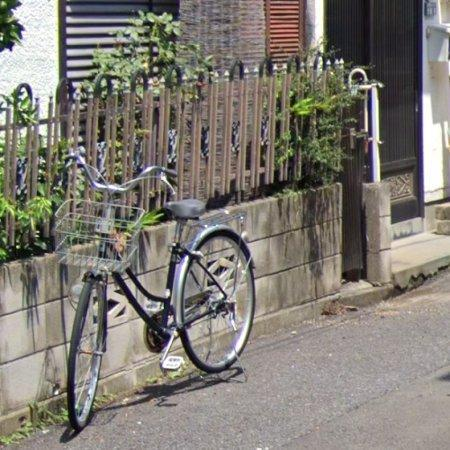bicycles: (55, 199, 256, 432), (67, 151, 178, 201)
